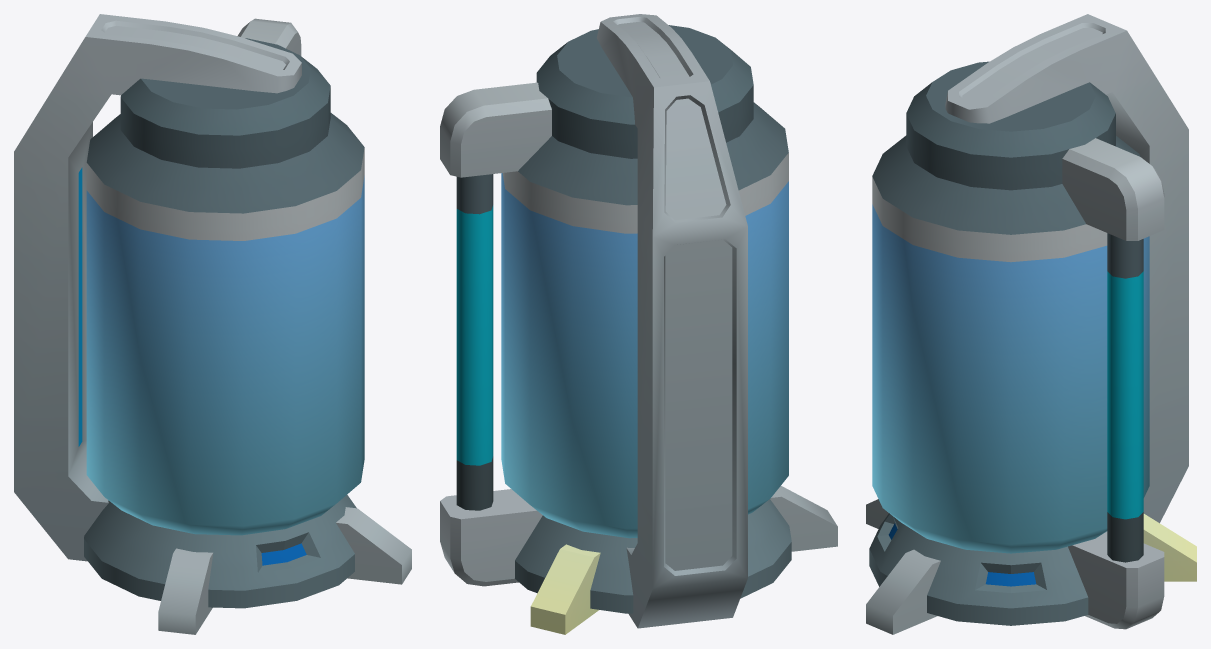
The picture shows the model from 3 angles, left to right: view 1: azimuth 30°, elevation 25°; view 2: azimuth 150°, elevation 25°; view 3: azimuth 270°, elevation 25°; orthographic projection. The views are drawn at different scales.
Parts seen in each view (by area): view 1: Сapsule_009; view 2: Сapsule_009; view 3: Сapsule_009.
Part boxes in pixels (x1,y1,x2,y2): Сapsule_009: (14, 14, 411, 634); Сapsule_009: (440, 14, 837, 634); Сapsule_009: (866, 14, 1196, 634).
Size of the model in its own units: 179 by 179 by 305.
